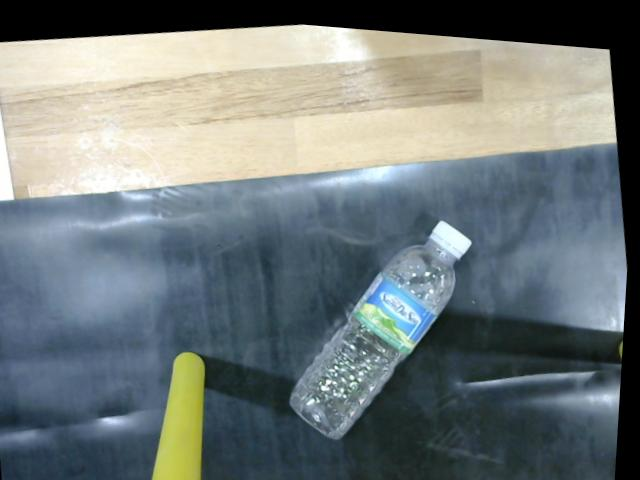bottle: (293, 209, 477, 438)
